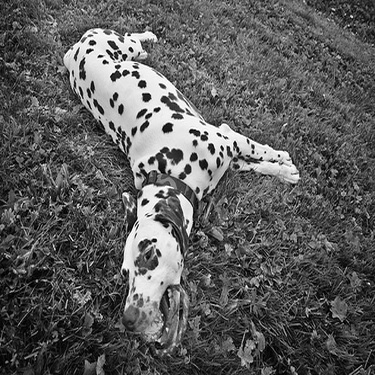dog: (48, 19, 308, 367)
